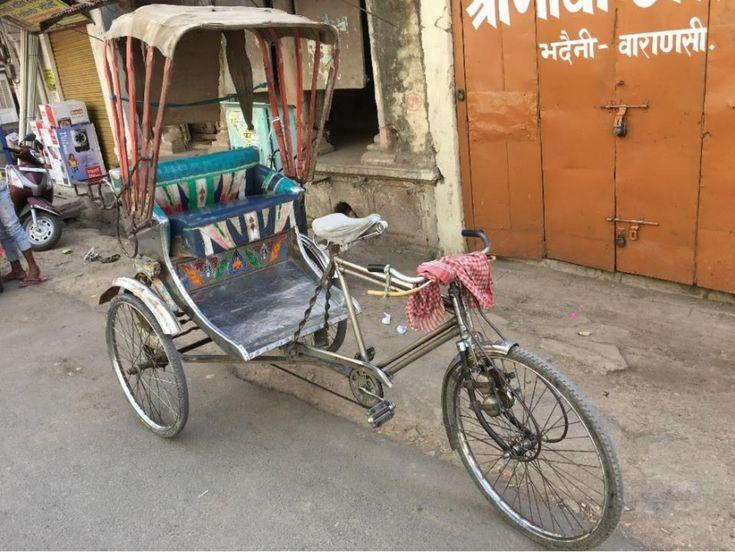Rickshaw: (101, 5, 621, 548)
